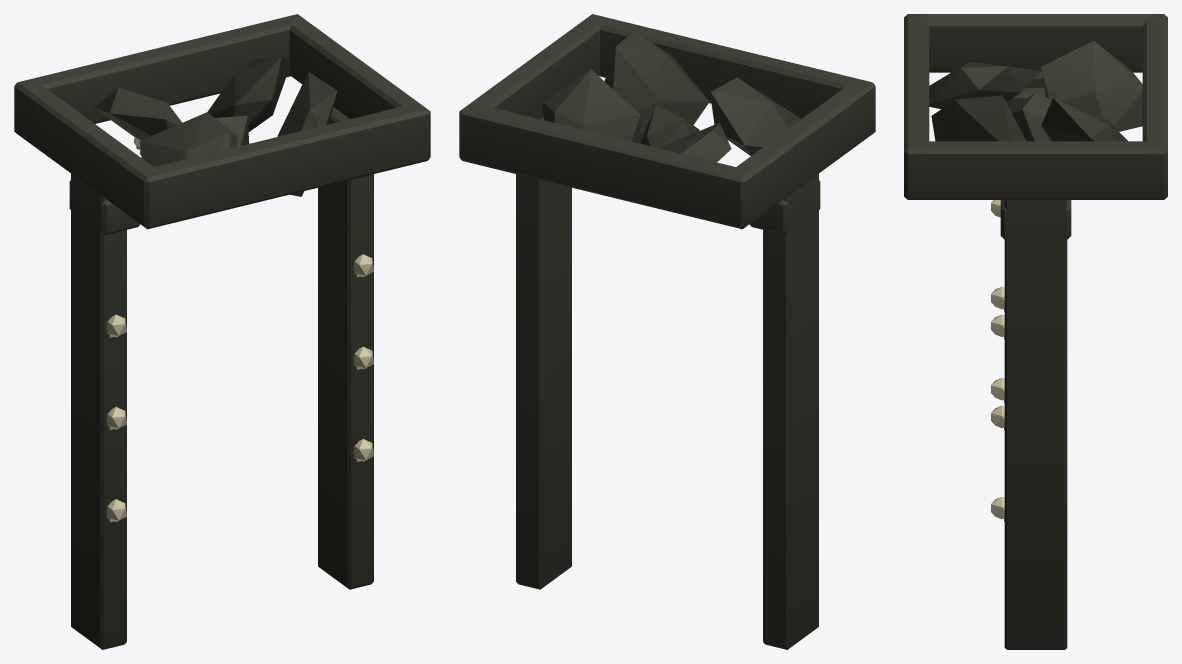
File: collapsing_ceiling.glb
3 views of the same model, side by side, from view 1: azimuth 30°, elevation 25°; view 2: azimuth 150°, elevation 25°; view 3: azimuth 270°, elevation 25° (orthographic).
Parts seen in each view (by area): view 1: ceiling_frame, ceiling_piece_04, ceiling_piece_01, ceiling_piece_03, ceiling_piece_02; view 2: ceiling_frame, ceiling_piece_02, ceiling_piece_04, ceiling_piece_01, ceiling_piece_03, ceiling_piece_05; view 3: ceiling_frame, ceiling_piece_03, ceiling_piece_02, ceiling_piece_01, ceiling_piece_04, ceiling_piece_05.
Boxes of the visible parts, bbox=[...] form: ceiling_frame: bbox=[14, 14, 430, 649]; ceiling_piece_04: bbox=[207, 56, 291, 131]; ceiling_piece_01: bbox=[139, 112, 237, 166]; ceiling_piece_03: bbox=[94, 87, 182, 155]; ceiling_piece_02: bbox=[277, 72, 337, 196]; ceiling_frame: bbox=[459, 14, 875, 649]; ceiling_piece_02: bbox=[604, 30, 709, 138]; ceiling_piece_04: bbox=[543, 69, 641, 143]; ceiling_piece_01: bbox=[710, 77, 801, 155]; ceiling_piece_03: bbox=[661, 122, 731, 162]; ceiling_piece_05: bbox=[641, 105, 699, 148]; ceiling_frame: bbox=[904, 14, 1167, 649]; ceiling_piece_03: bbox=[1040, 41, 1142, 131]; ceiling_piece_02: bbox=[931, 95, 1026, 141]; ceiling_piece_01: bbox=[929, 62, 1040, 108]; ceiling_piece_04: bbox=[1041, 98, 1127, 141]; ceiling_piece_05: bbox=[1010, 92, 1051, 141].
Size of the model in its own units: 2.6 by 4.59 by 2.1.
